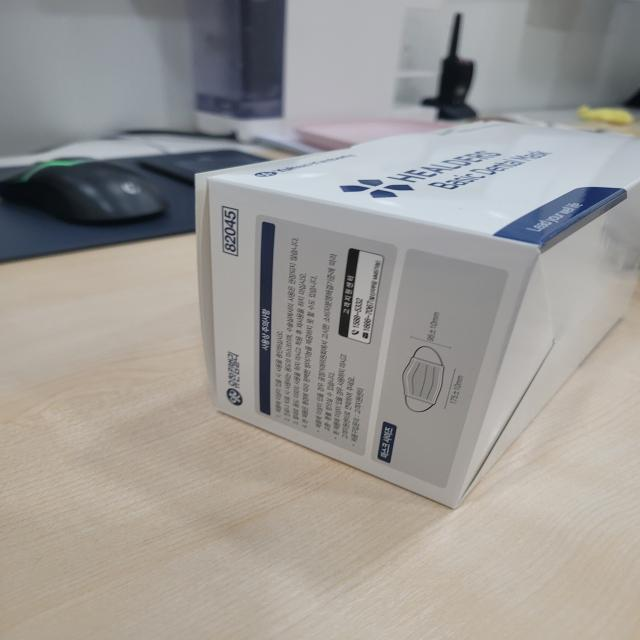mask: (180, 104, 640, 534)
